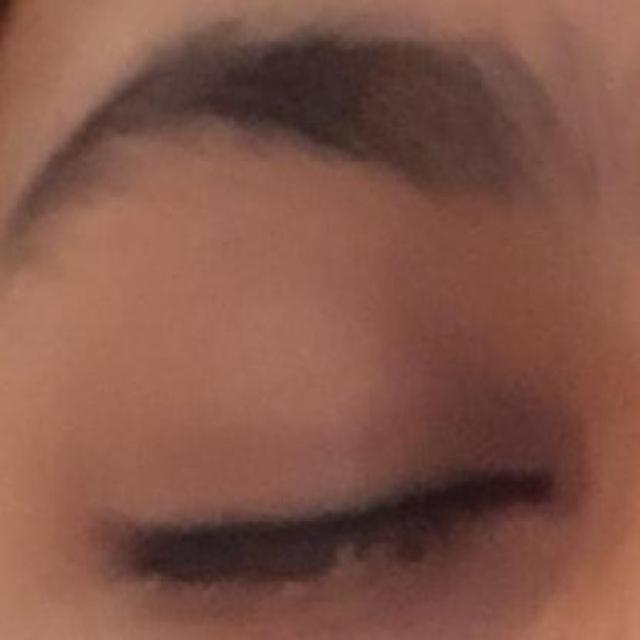drowsy: (107, 358, 555, 638)
